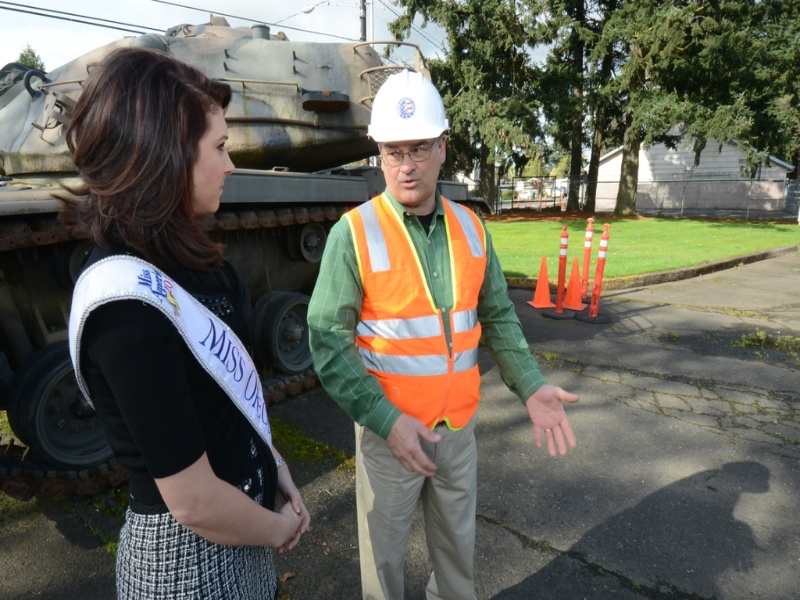helmet: (366, 70, 454, 140)
jacket: (355, 190, 487, 419)
